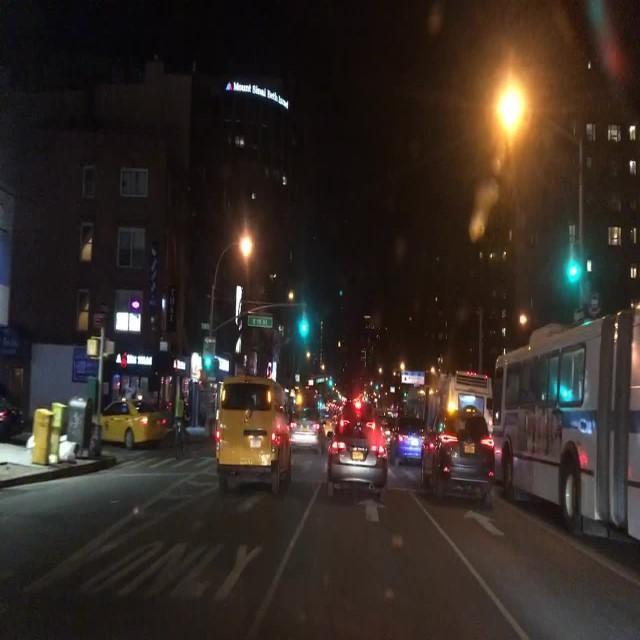normal: (489, 304, 637, 549), (216, 378, 296, 496), (423, 410, 497, 500), (325, 420, 388, 488), (101, 399, 177, 449), (396, 431, 426, 463), (290, 426, 320, 451)
